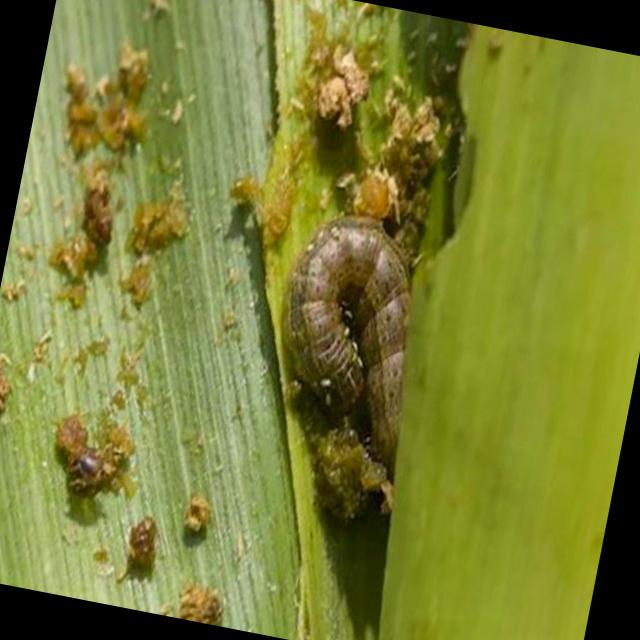pest: (260, 214, 453, 456)
